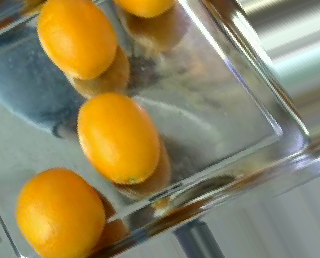Orange: (15, 166, 107, 257), (75, 93, 160, 185), (37, 1, 117, 81)
